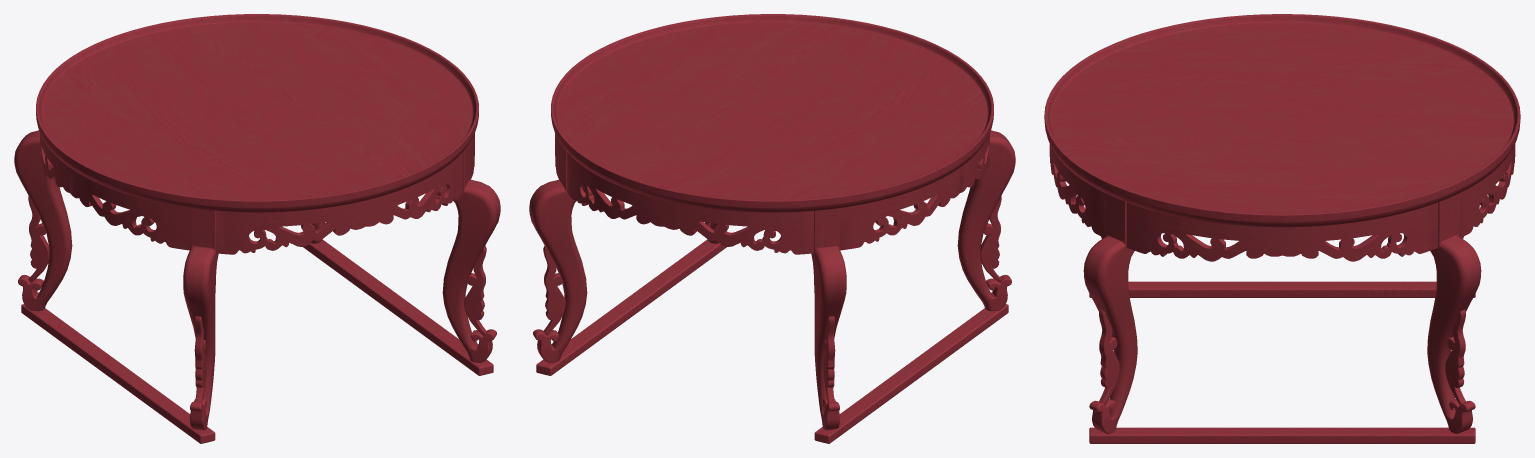
File: gb_soban.glb
3 views of the same model, side by side, from view 1: azimuth 30°, elevation 25°; view 2: azimuth 150°, elevation 25°; view 3: azimuth 270°, elevation 25° (orthographic). The views are drawn at different scales.
Parts seen in each view (by area): view 1: SM_GNJ_SobanA; view 2: SM_GNJ_SobanA; view 3: SM_GNJ_SobanA.
Part boxes in pixels (x1=…): SM_GNJ_SobanA: x1=14, y1=14, x2=500, y2=443; SM_GNJ_SobanA: x1=529, y1=14, x2=1015, y2=443; SM_GNJ_SobanA: x1=1044, y1=14, x2=1520, y2=443.
Size of the model in its own units: 0.6002 by 0.352 by 0.6002.
Materials: 1 (1 with a texture image).
